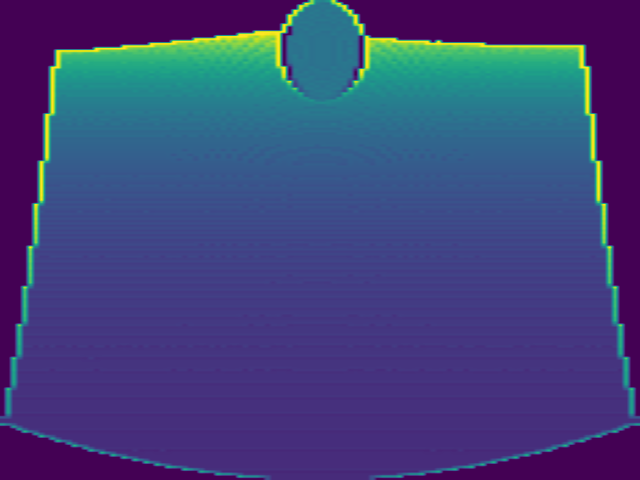sphere: (278, 3, 367, 104)
